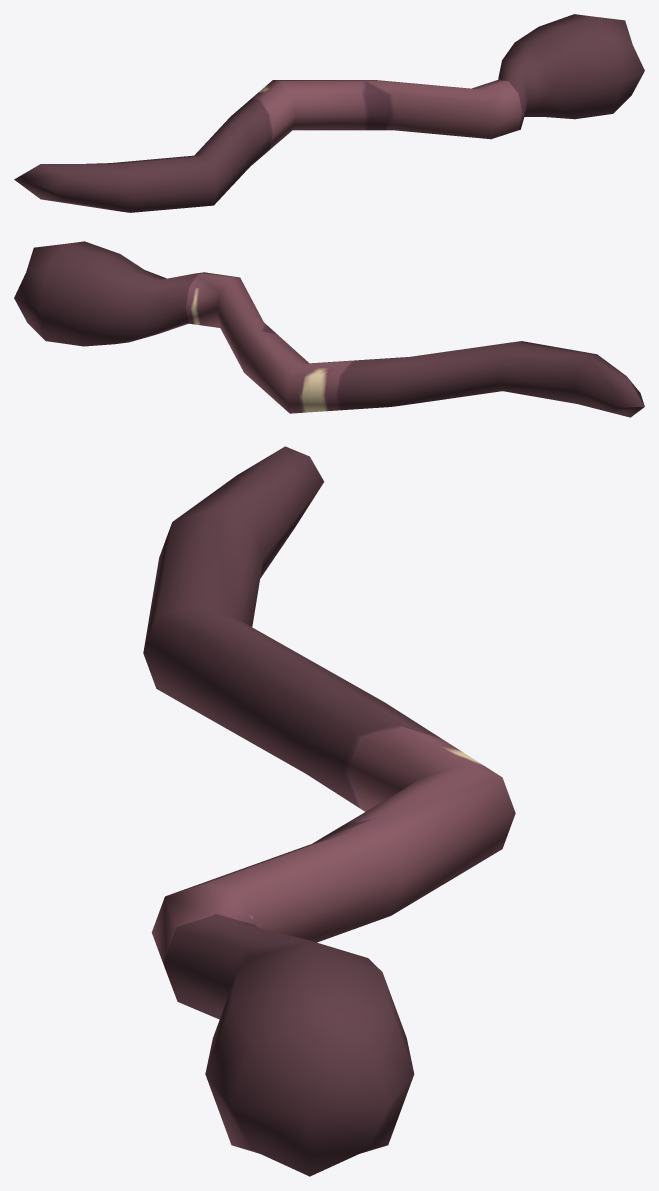
File: Tongue.fbx
The picture shows the model from 3 angles, top to bottom: view 1: azimuth 30°, elevation 25°; view 2: azimuth 150°, elevation 25°; view 3: azimuth 270°, elevation 25°; orthographic projection. The views are drawn at different scales.
Visible parts, largest first — view 1: Bone; view 2: Bone; view 3: Bone.
Boxes of the visible parts, bbox=[...] form: Bone: bbox=[14, 14, 644, 212]; Bone: bbox=[14, 241, 644, 417]; Bone: bbox=[143, 446, 515, 1176].
Bounding box in the file's own units: 1.56 × 0.2269 × 0.4043.
Materials: 1 (1 with a texture image).
